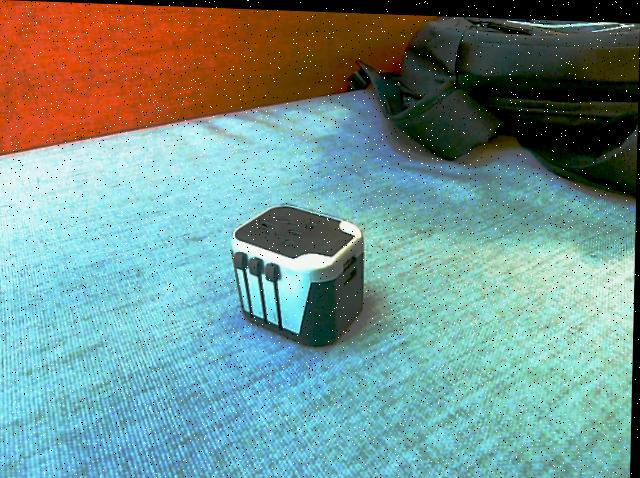adapter: (229, 201, 366, 347)
